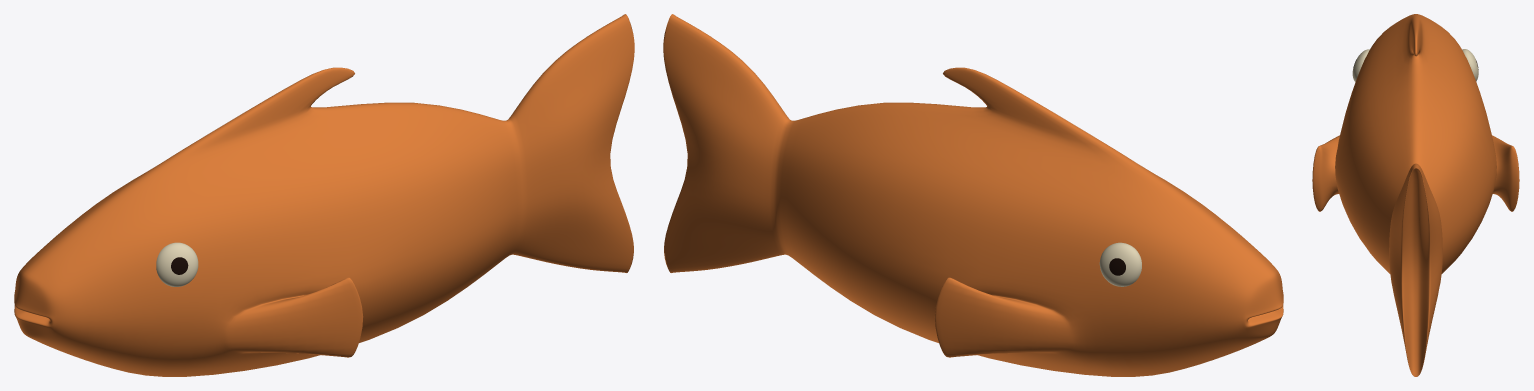
The model's file is goldfish.fbx.
3 renders of one model, left to right at view 1: azimuth 30°, elevation 25°; view 2: azimuth 150°, elevation 25°; view 3: azimuth 270°, elevation 25°, orthographic. The views are drawn at different scales.
Visible parts, largest first — view 1: goldfish1; view 2: goldfish1; view 3: goldfish1.
Boxes of the visible parts, x1=… form: goldfish1: x1=14, y1=14, x2=634, y2=376; goldfish1: x1=663, y1=14, x2=1283, y2=376; goldfish1: x1=1312, y1=14, x2=1519, y2=376.
Size of the model in its own units: 115 by 50.82 by 41.78.
